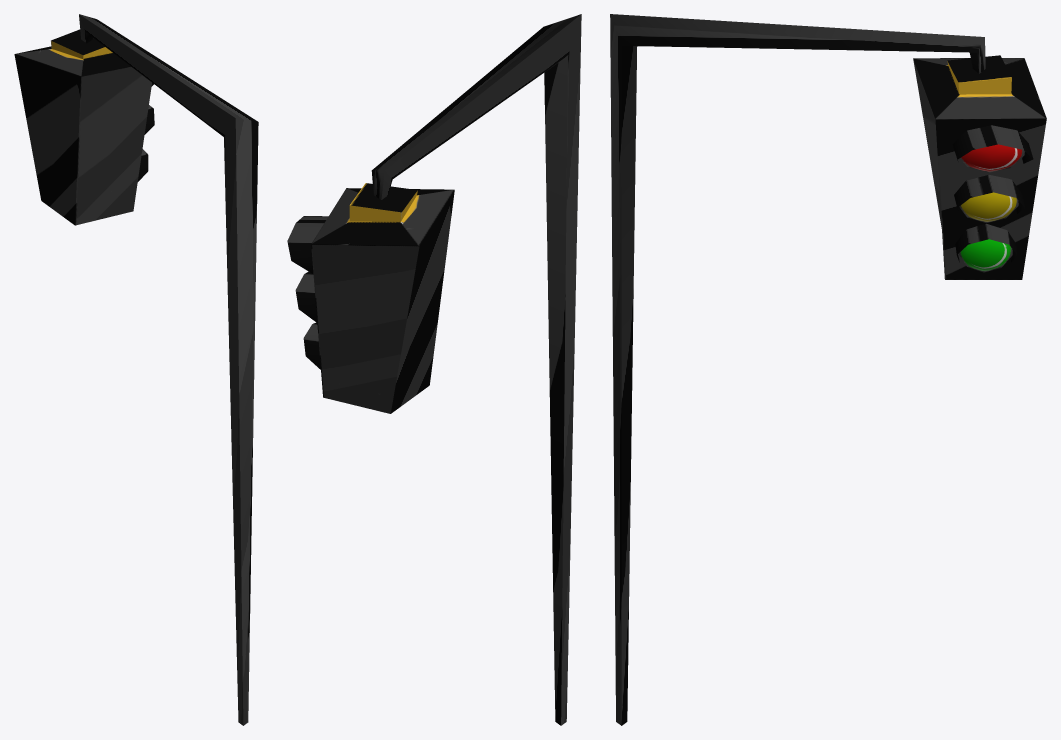
Rendered from TrafficLight.fbx.
3 views of the same model, side by side, from view 1: azimuth 30°, elevation 25°; view 2: azimuth 150°, elevation 25°; view 3: azimuth 270°, elevation 25° (orthographic). The views are drawn at different scales.
Parts seen in each view (by area): view 1: TODOS:TrafficLights3_2:polySurface9, pCylinder1; view 2: TODOS:TrafficLights3_2:polySurface9, pCylinder1; view 3: TODOS:TrafficLights3_2:polySurface9, pCylinder1.
Boxes of the visible parts, x1,y1,x2,y2 form: TODOS:TrafficLights3_2:polySurface9: (14, 29, 154, 225); pCylinder1: (79, 14, 258, 725); TODOS:TrafficLights3_2:polySurface9: (287, 183, 454, 413); pCylinder1: (371, 14, 581, 725); TODOS:TrafficLights3_2:polySurface9: (913, 55, 1046, 279); pCylinder1: (610, 14, 985, 725).
Size of the model in its own units: 4.23 by 20.17 by 11.37.
